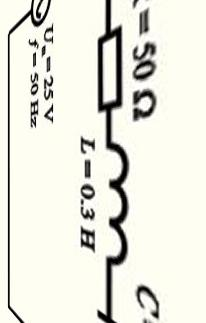inductor: (93, 134, 138, 276)
